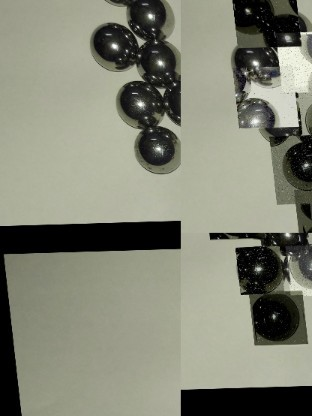ironball: (227, 67, 293, 130), (262, 136, 311, 206), (227, 0, 297, 49), (242, 292, 300, 347), (88, 17, 137, 73), (131, 125, 185, 175), (271, 33, 311, 95), (118, 79, 169, 127), (229, 247, 278, 296), (131, 41, 180, 86), (125, 0, 178, 41), (279, 246, 311, 297), (289, 87, 311, 155), (255, 232, 308, 255), (286, 190, 311, 232)
